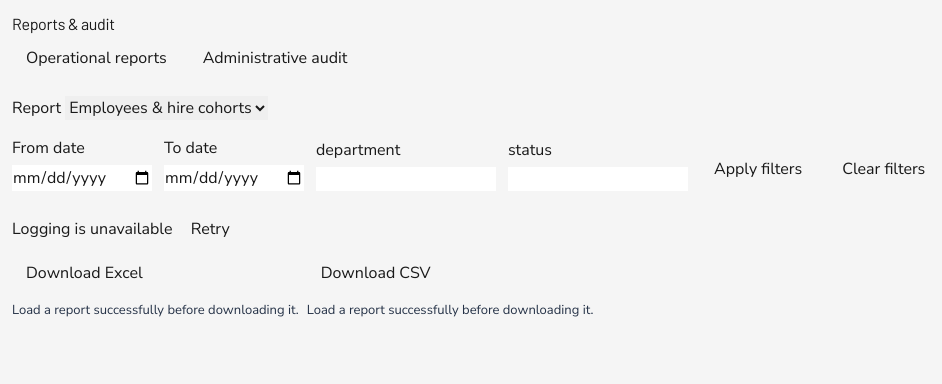
failed report fetch has a useful retry and no stale table
Expected: the message "Logging is unavailable Retry" is shown, [12,207,244,251]
Click the button "Retry": (210, 229) [177,207,244,251]
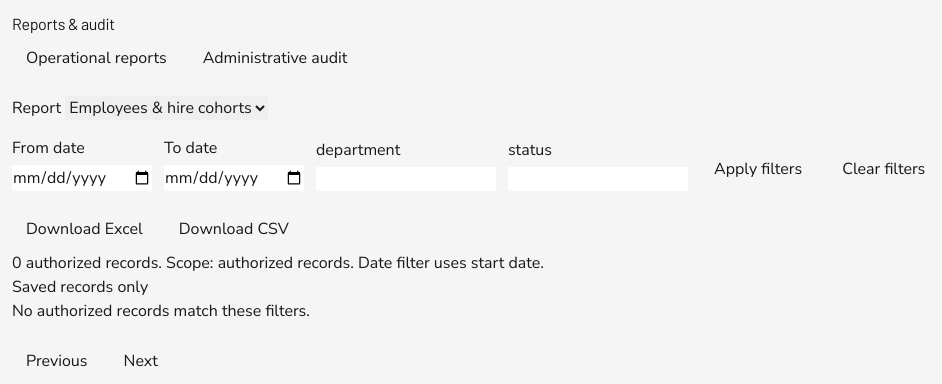
Expected: the message "Logging is unavailable Retry" is gone
Expected: the text "No authorized records match" is shown, [12,300,310,322]
